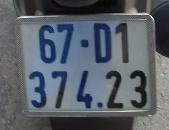1: (113, 17, 130, 68)
2: (104, 68, 124, 112)
3: (128, 68, 151, 111), (27, 68, 47, 110)
4: (76, 67, 94, 109)
6: (36, 21, 58, 67)
7: (53, 17, 74, 66), (51, 70, 68, 110)
D: (92, 17, 112, 67)
